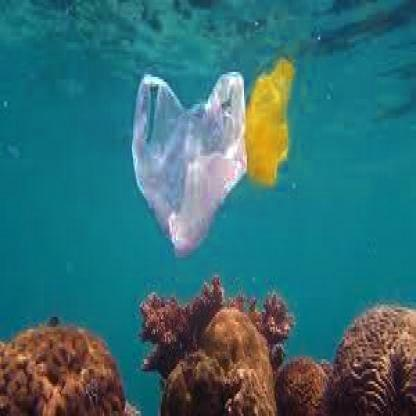pbag: (132, 72, 247, 260), (242, 57, 296, 191)
